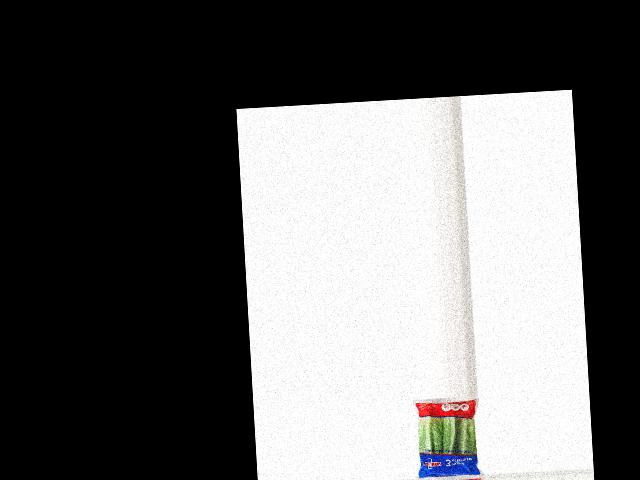lettuce: (413, 396, 481, 480)
